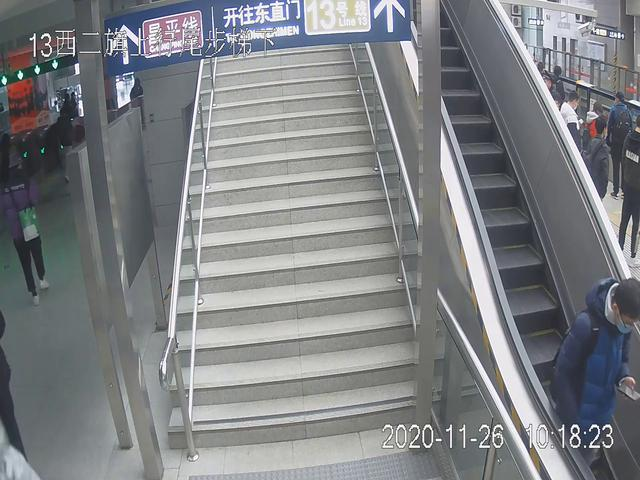person: (551, 267, 640, 480), (1, 160, 60, 308)
